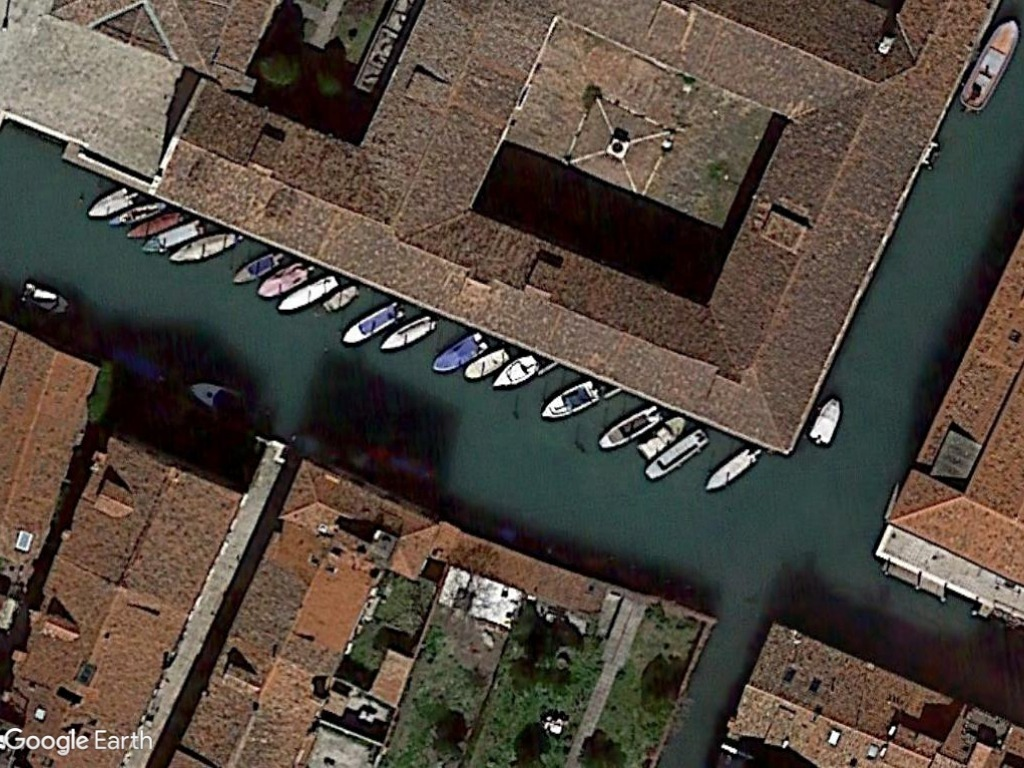boat: (955, 16, 1024, 111), (594, 400, 667, 452), (699, 442, 768, 496), (643, 427, 711, 481), (337, 296, 410, 346), (538, 373, 611, 422), (251, 256, 318, 301), (135, 216, 210, 256), (427, 326, 492, 372), (377, 308, 439, 356), (168, 225, 241, 265), (275, 272, 342, 315), (633, 413, 690, 460), (123, 205, 192, 243), (230, 243, 288, 284), (458, 342, 517, 382), (804, 395, 845, 448), (16, 278, 73, 315), (488, 352, 542, 391), (82, 184, 138, 221), (105, 196, 168, 228), (321, 280, 363, 315)
